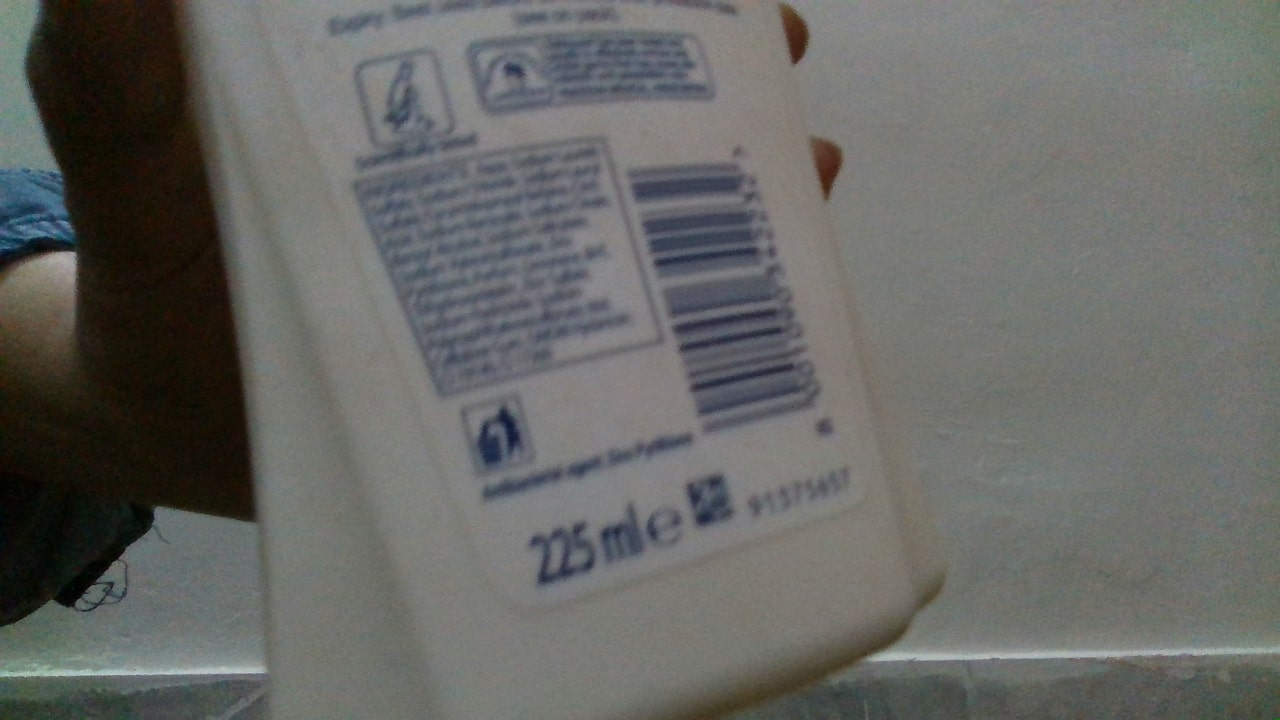Barcode: (619, 152, 832, 446)
